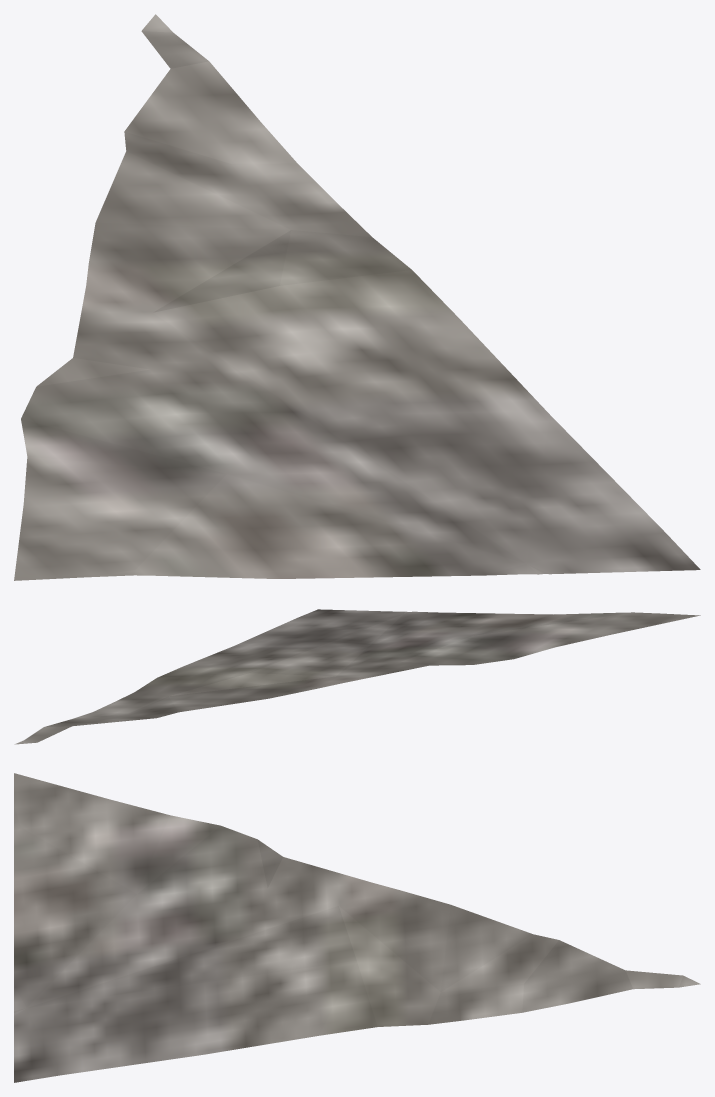
The picture shows the model from 3 angles, top to bottom: view 1: azimuth 30°, elevation 25°; view 2: azimuth 150°, elevation 25°; view 3: azimuth 270°, elevation 25°; orthographic projection. The views are drawn at different scales.
Bounding box in the file's own units: 0.1258 × 0.0274 × 0.173.
Materials: 1 (1 with a texture image).
